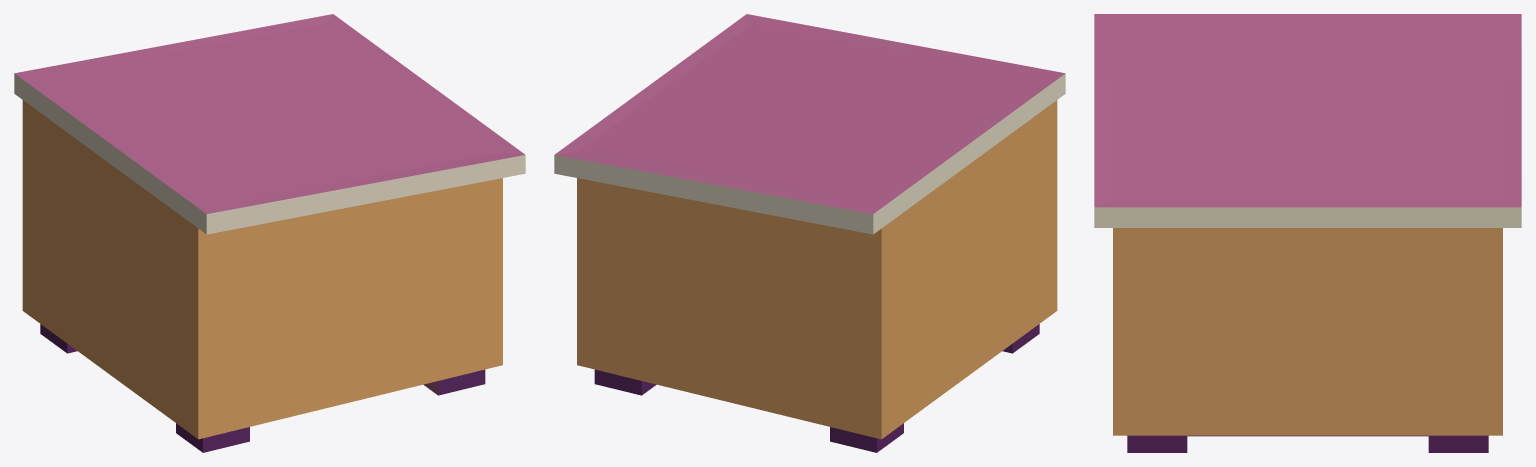
Rendered from Contenedor.fbx.
3 views of the same model, side by side, from view 1: azimuth 30°, elevation 25°; view 2: azimuth 150°, elevation 25°; view 3: azimuth 270°, elevation 25° (orthographic). The views are drawn at different scales.
Visible parts, largest first — view 1: Cube.023; view 2: Cube.023; view 3: Cube.023.
Part boxes in pixels (x1=…): Cube.023: x1=14, y1=14, x2=525, y2=452; Cube.023: x1=554, y1=14, x2=1065, y2=452; Cube.023: x1=1094, y1=14, x2=1521, y2=452.
Bounding box in the file's own units: 81.36 × 61.52 × 85.05.
